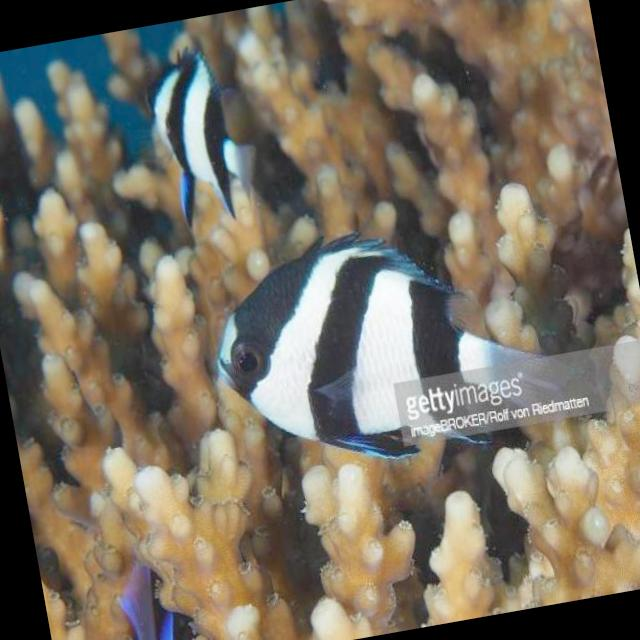Three_striped DasmselFish: (198, 190, 608, 491), (138, 38, 262, 226)
